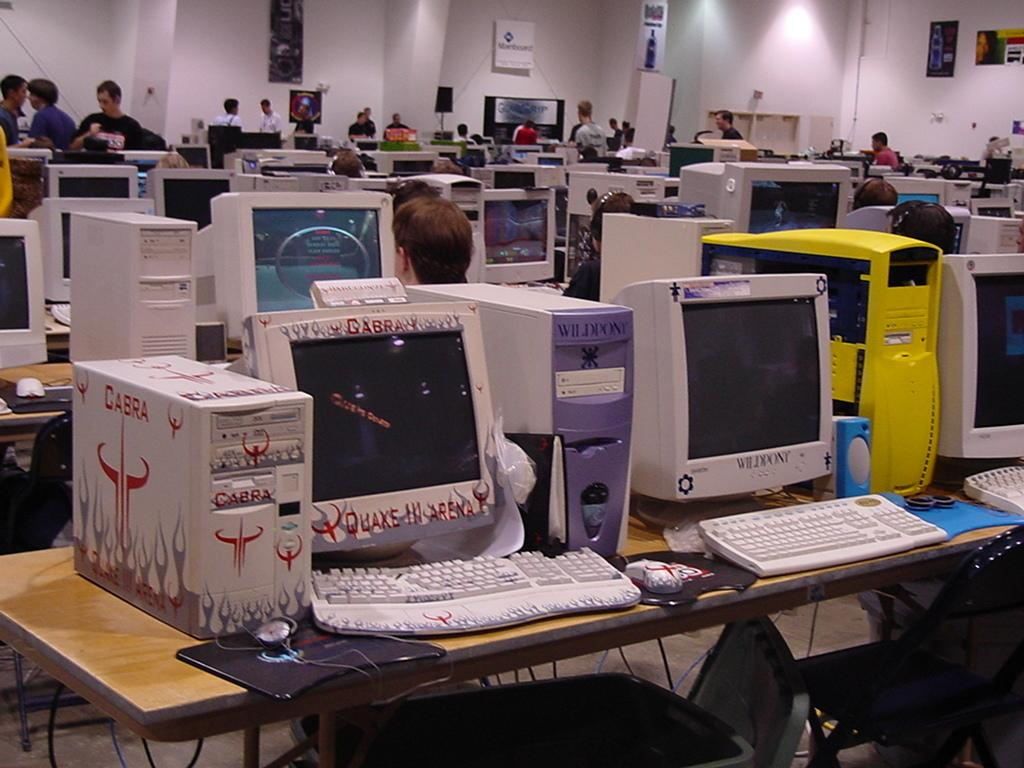Computer-keyboard: (309, 546, 643, 637), (697, 491, 950, 575), (961, 464, 1023, 515), (51, 303, 74, 323)
